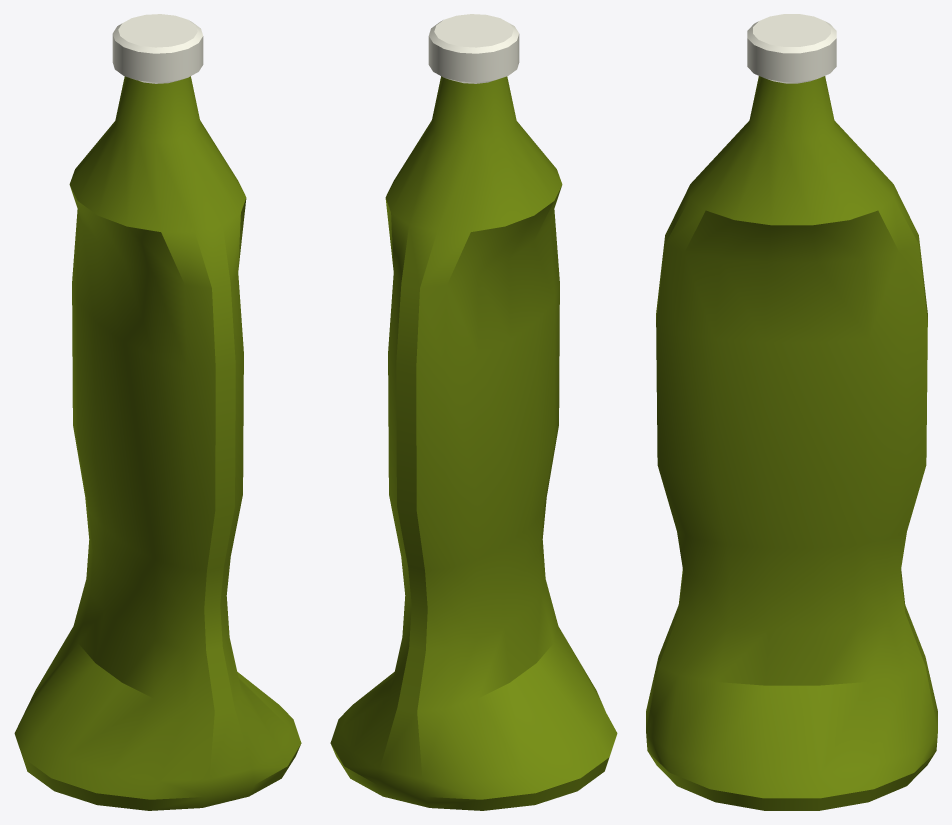
The model's file is Botella_07.fbx.
The picture shows the model from 3 angles, left to right: view 1: azimuth 30°, elevation 25°; view 2: azimuth 150°, elevation 25°; view 3: azimuth 270°, elevation 25°; orthographic projection.
Parts seen in each view (by area): view 1: Botella_07; view 2: Botella_07; view 3: Botella_07.
Part boxes in pixels (box(x1,y1,x2,y2)): Botella_07: box(14, 14, 301, 810); Botella_07: box(330, 14, 617, 810); Botella_07: box(646, 14, 937, 810).
Bounding box in the file's own units: 22.94 × 65.72 × 23.92.
